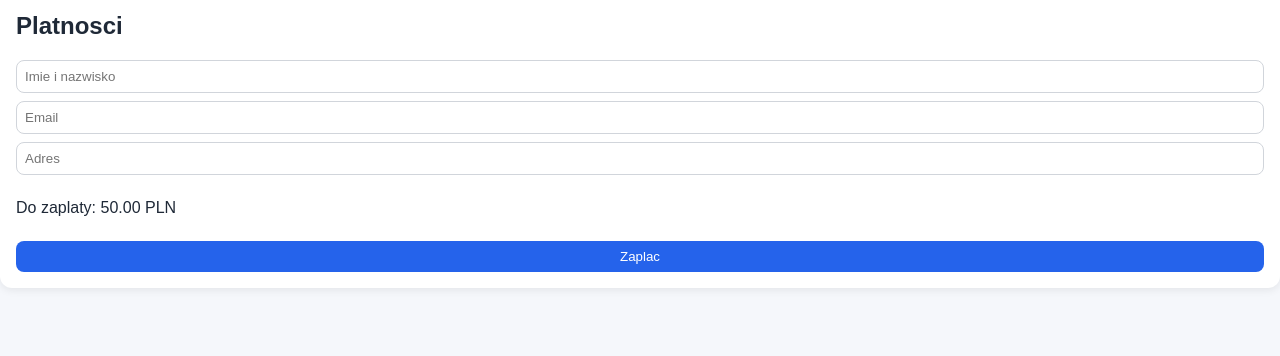
it: Platnosci › pokazuje blad gdy platnosc sie nie powiedzie
Type "Jan Kowalski" into the field with placeholder "Imie i nazwisko" at coordinates (640, 76), box [16, 60, 1264, 93]
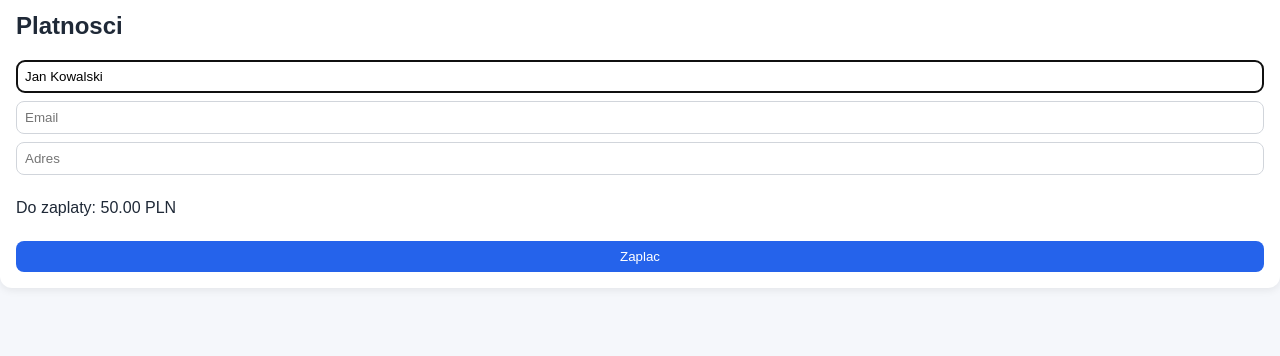
Type "jan@example.com" into the field with placeholder "Email" at coordinates (640, 117), box [16, 101, 1264, 134]
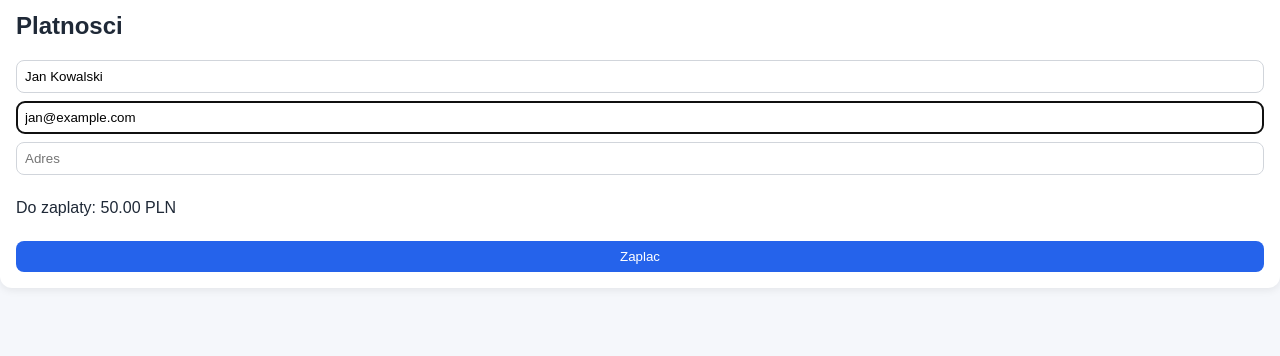
Type "ul. Testowa 1" into the field with placeholder "Adres" at coordinates (640, 158), box [16, 142, 1264, 175]
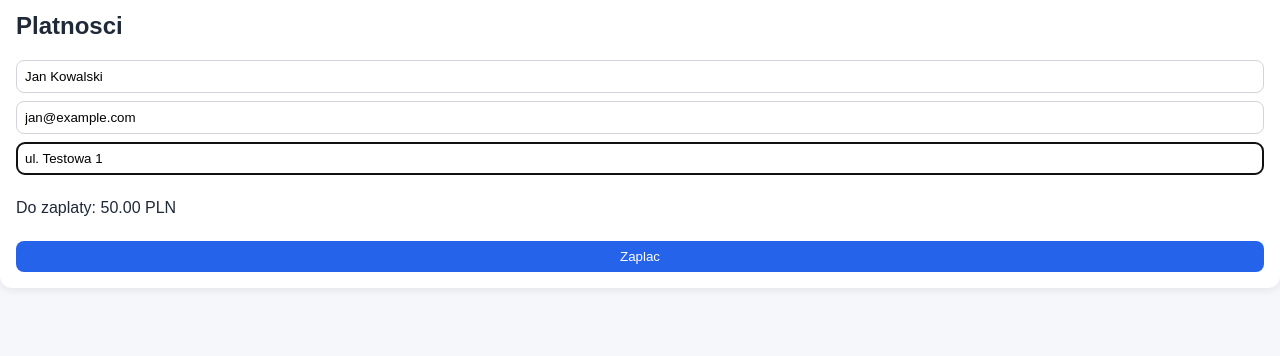
Click the button "Zaplac" at coordinates (640, 256), box [16, 241, 1264, 272]
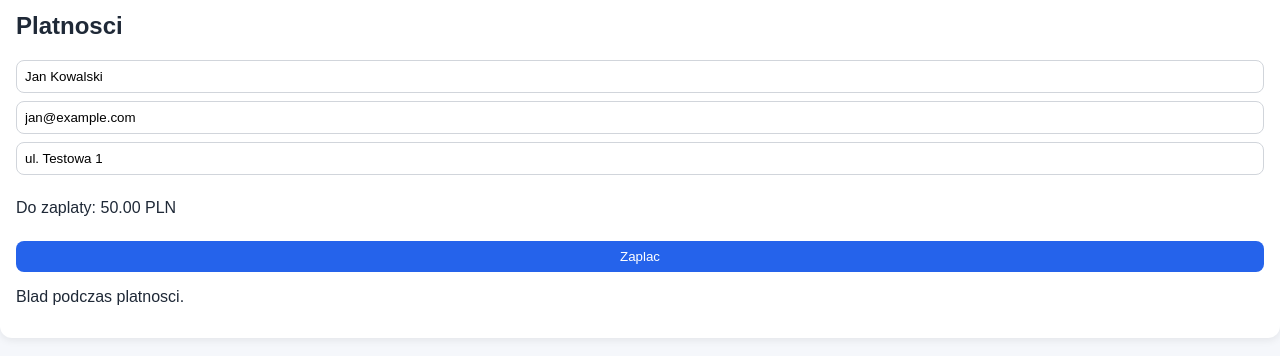
Check: the text "Blad podczas platnosci." is shown, box [16, 288, 184, 305]
